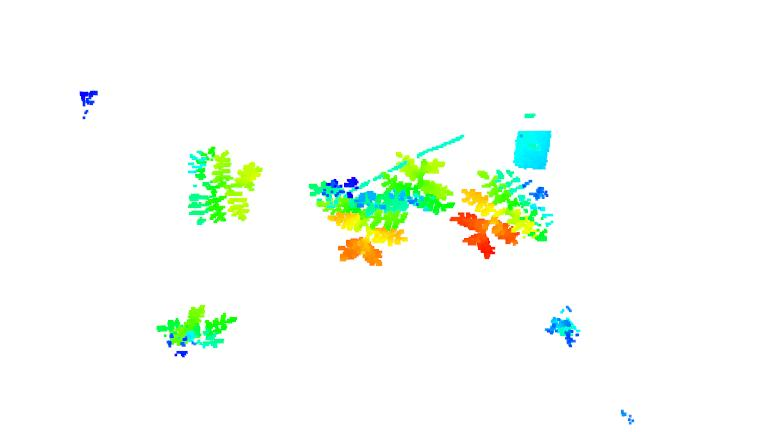chickpea: (457, 162, 559, 259), (318, 178, 404, 274), (189, 148, 265, 224), (152, 303, 237, 359), (387, 147, 456, 215), (536, 305, 587, 353)
